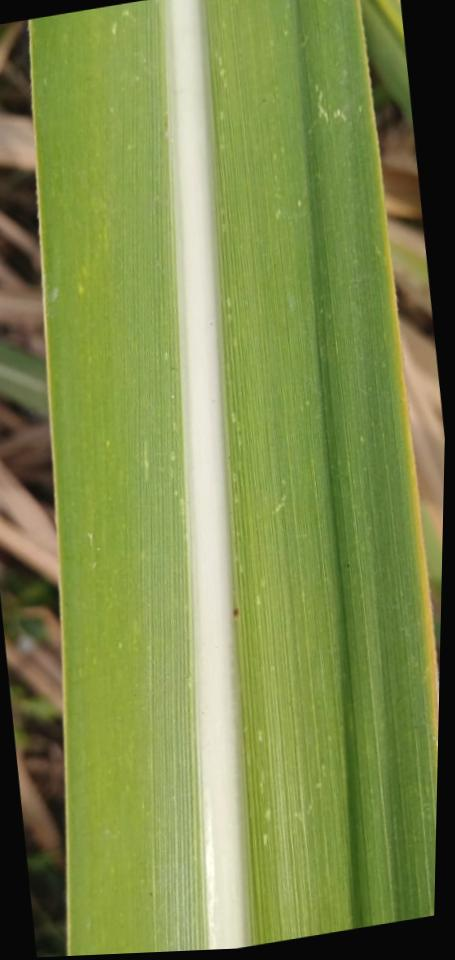Healthy: (29, 0, 439, 956)
